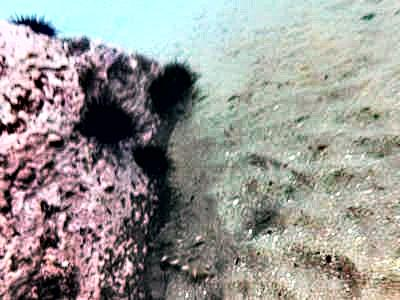urchin: (152, 63, 196, 118), (77, 97, 130, 142), (127, 146, 175, 179), (8, 12, 56, 37)
